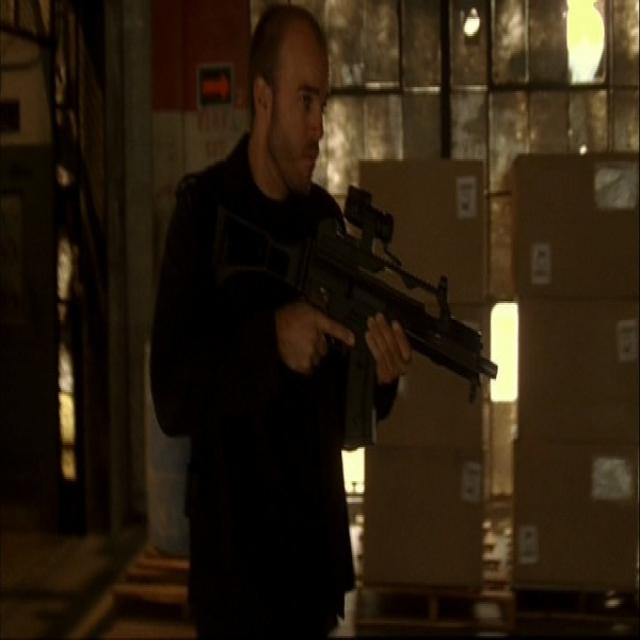rifle: (284, 182, 504, 416)
